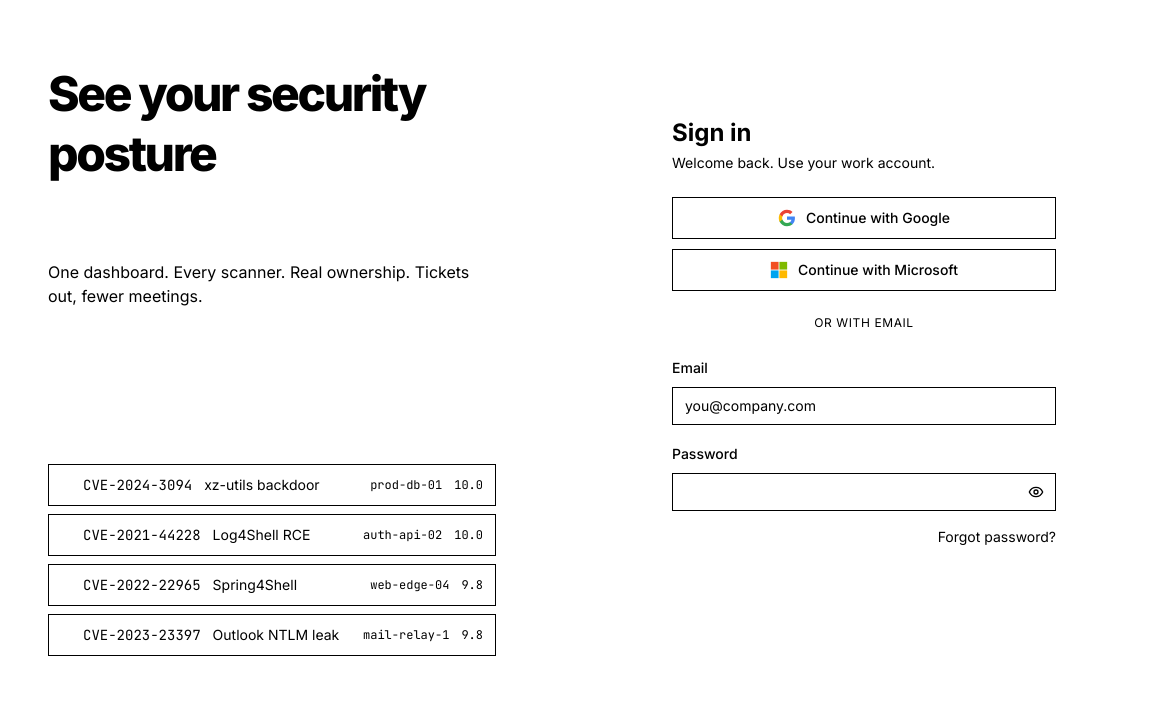
Scenario: <LoginPage> — D-51 SSO 5xx surfaces ErrorAlert (T-09-05-07 mitigation) › SSO failure (loginSSO throws D-51 copy) renders ErrorAlert with D-51 copy
Click the button "Continue with Google" at (864, 218), box x1=672 y1=197 x2=1056 y2=239
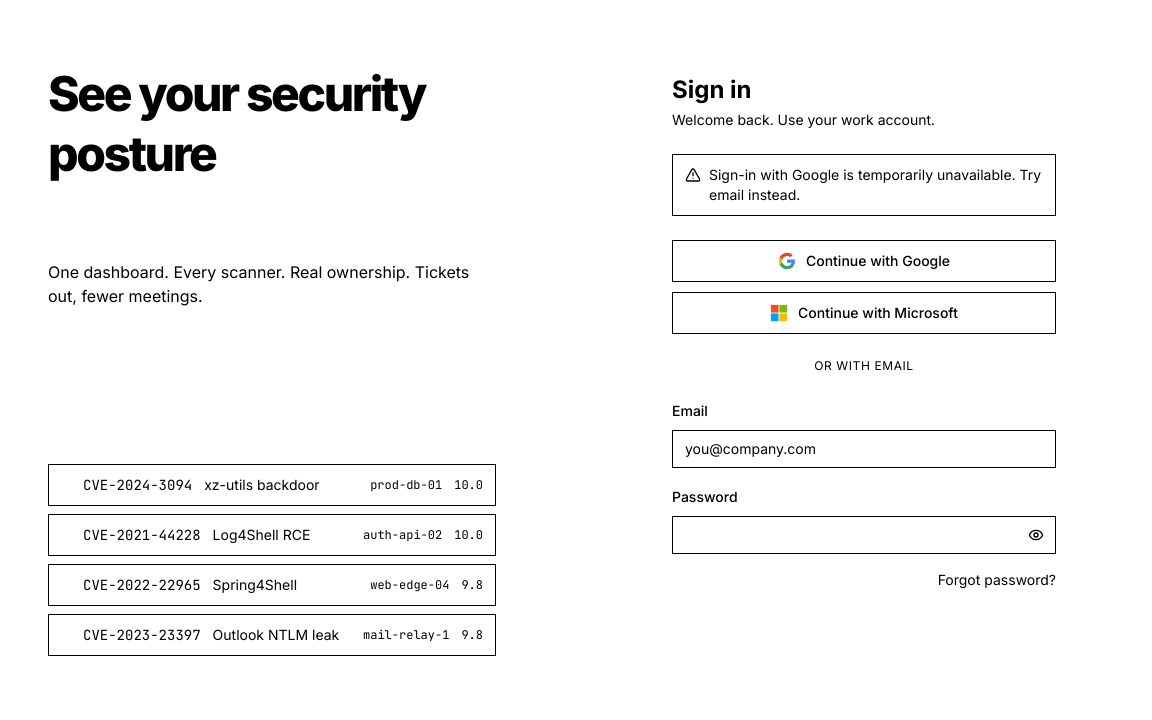
expect the message reads "Sign-in with Google is temporarily unavailable. Try email instead.": met, box x1=709 y1=166 x2=1041 y2=203
